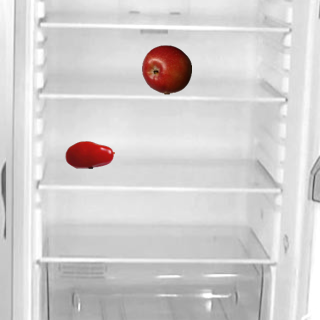Apple Braeburn: (141, 44, 191, 94)
Tomato 2: (64, 129, 114, 179)
